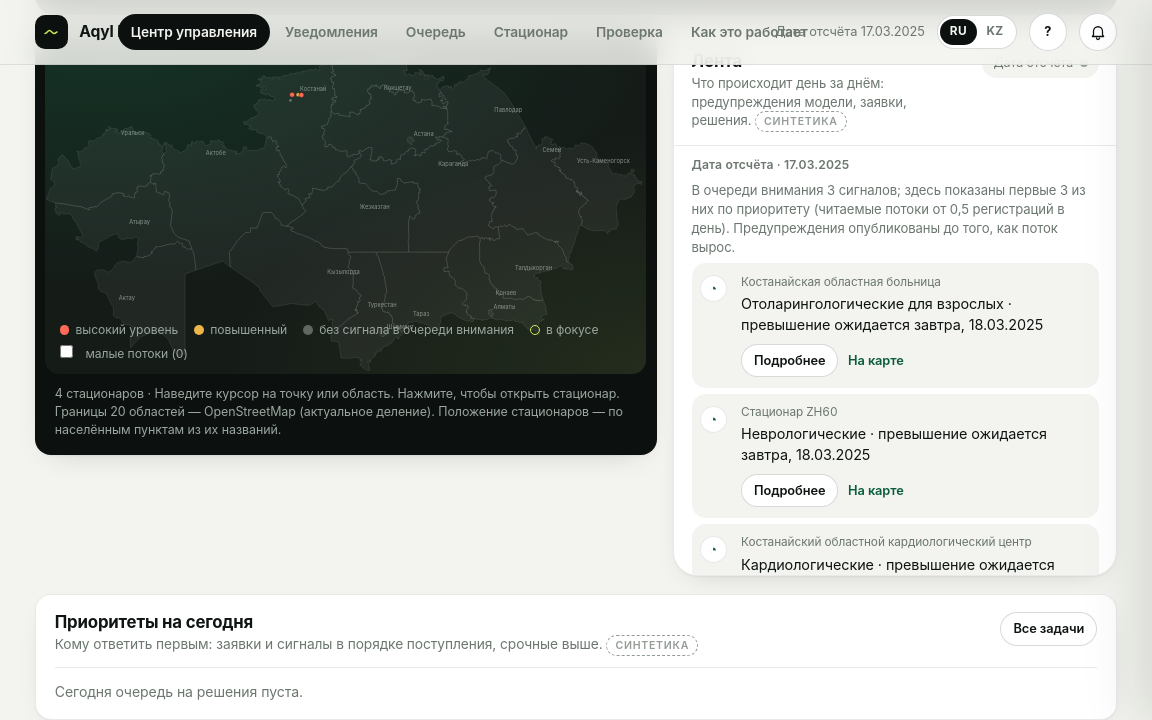
Test: Control centre › clicking outside the dialog closes it
(page scrolled)
Click the button "Подробнее" below "Отоларингологические для взрослых". click: (790, 360)
box: [741,344,838,377]
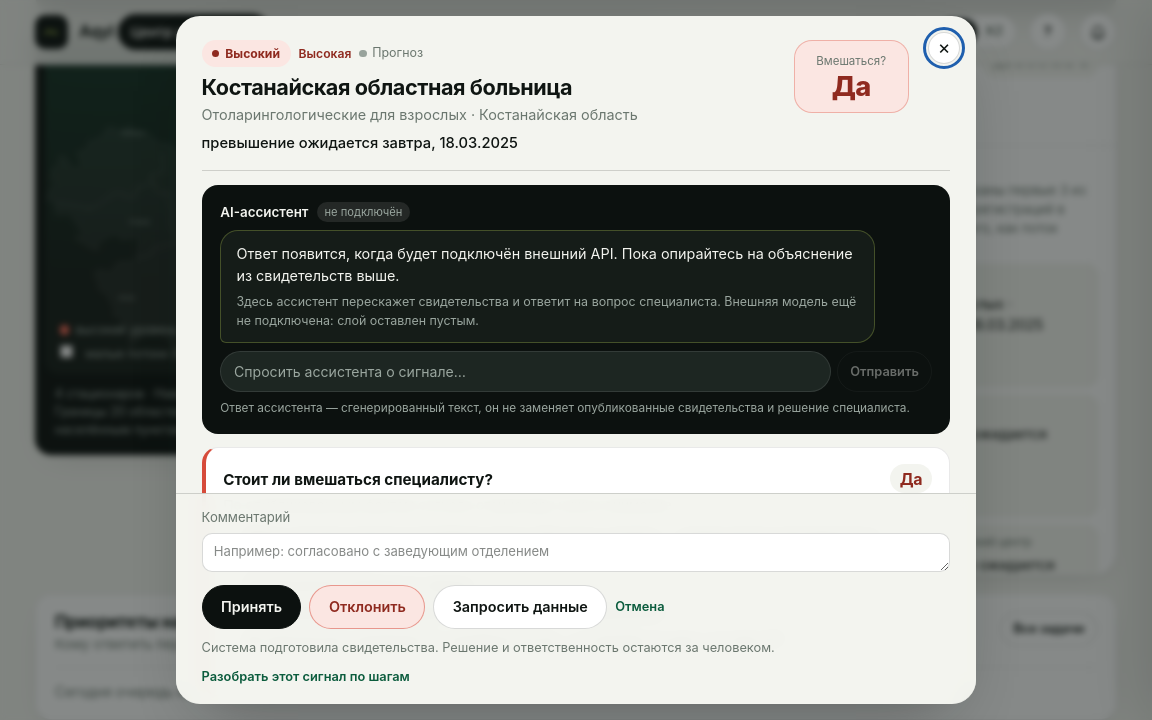
Check: the dialog is shown
Click the element with class "decision-backdrop". click: (69, 360)
box: [0,0,1151,719]
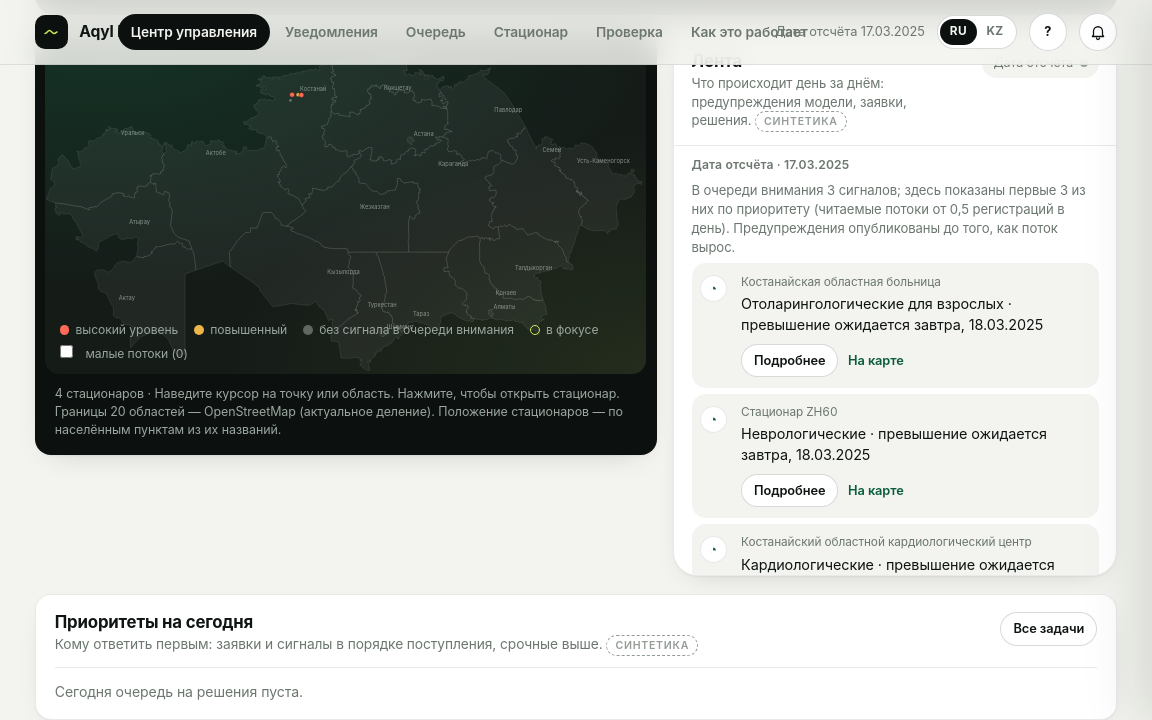
Check: the dialog is gone
